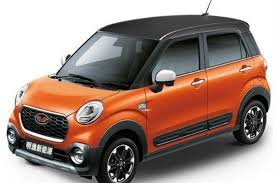mobil: (8, 12, 270, 181)
